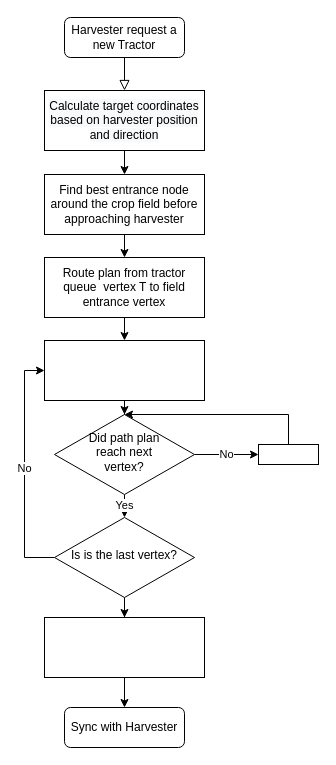
This 336x765 diagram has some shape labels left out. Each missing label, with the centre of its shape:
"Path plan and move tractor to next vertex in the route list" belongs at [124,370].
"Route plan to next vertex approaching harvester" belongs at [124,647].
"Wait" belongs at [288,454].
